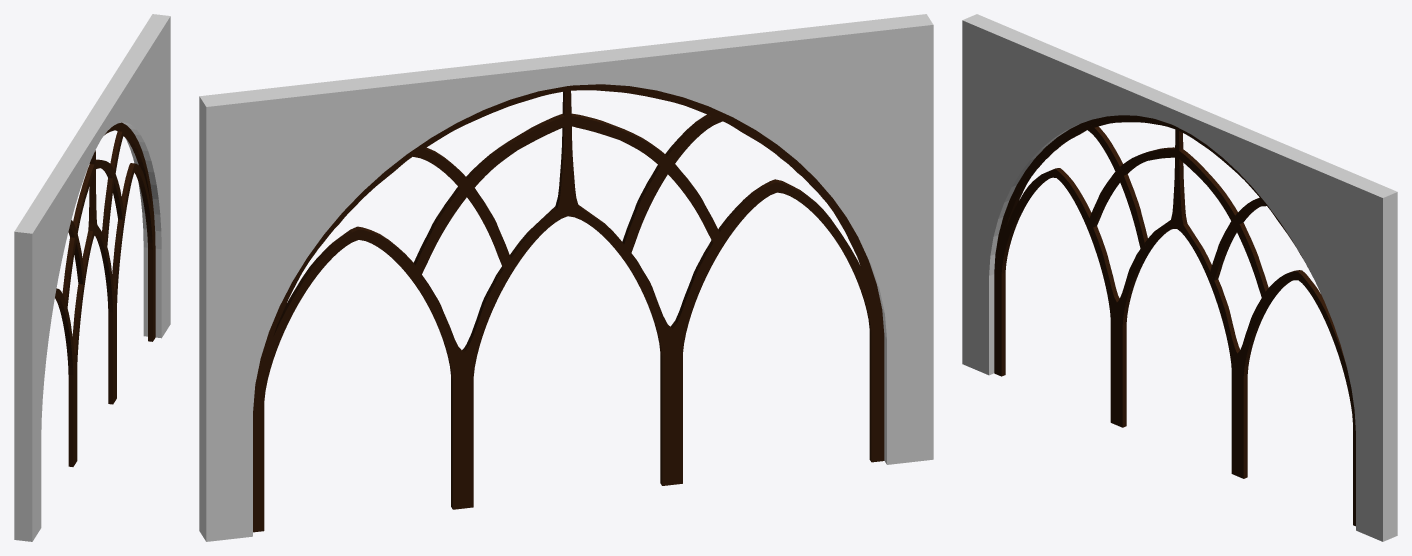
Rendered from Ściana3.fbx.
3 views of the same model, side by side, from view 1: azimuth 30°, elevation 25°; view 2: azimuth 150°, elevation 25°; view 3: azimuth 270°, elevation 25° (orthographic). The views are drawn at different scales.
Visible parts, largest first — view 1: Plane.012; view 2: Plane.012; view 3: Plane.012.
Boxes of the visible parts, x1,y1,x2,y2 form: Plane.012: (14,14,170,541); Plane.012: (199,14,933,541); Plane.012: (962,14,1397,541).
Size of the model in its own units: 2.89 by 2.52 by 2.89.
